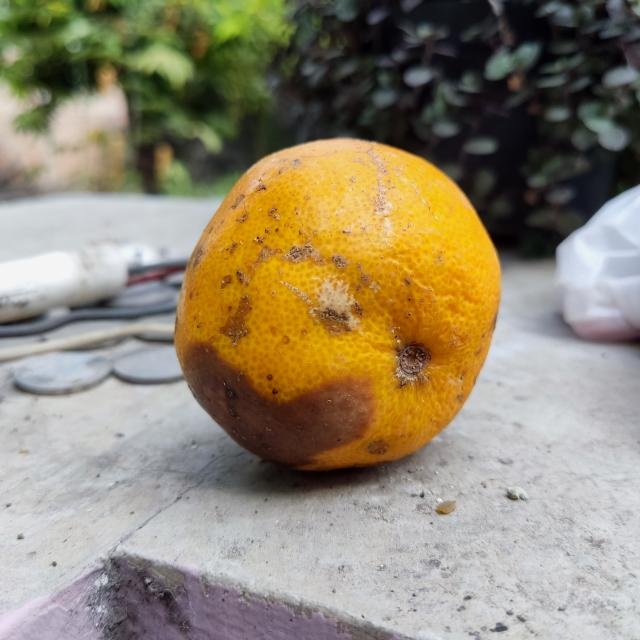agrume: (171, 134, 505, 478)
